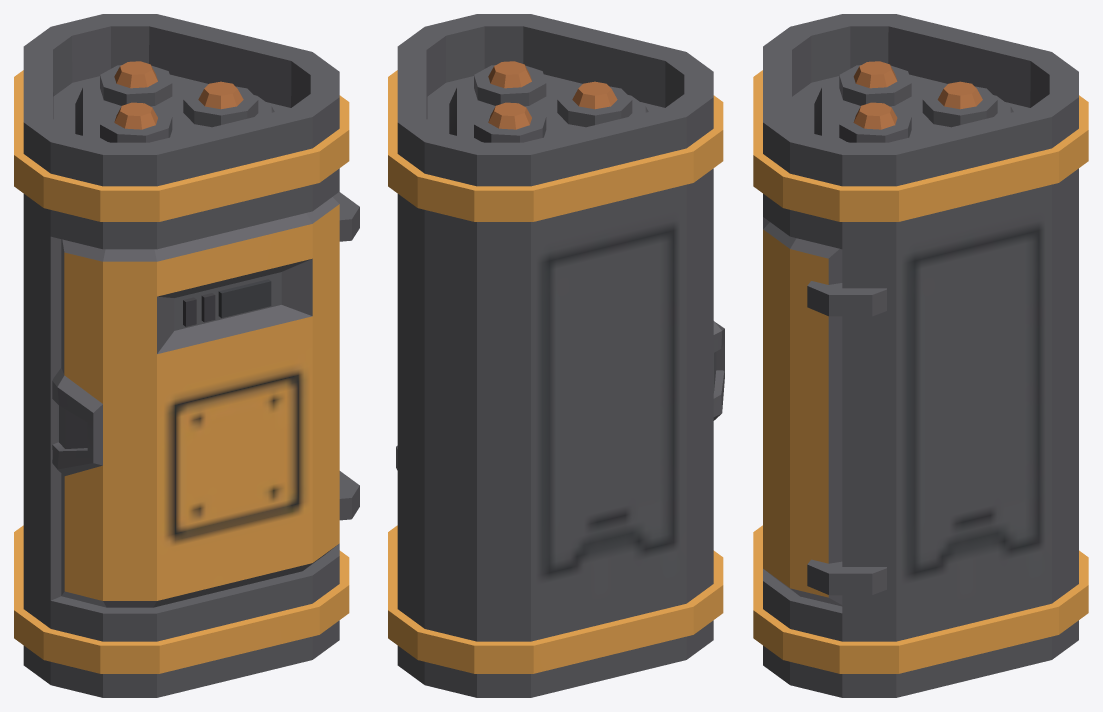
The model's file is worlds_SM_Prop_Crate_10.gltf.
3 views of the same model, side by side, from view 1: azimuth 30°, elevation 25°; view 2: azimuth 150°, elevation 25°; view 3: azimuth 270°, elevation 25° (orthographic).
Parts seen in each view (by area): view 1: SM_Prop_Crate_10; view 2: SM_Prop_Crate_10; view 3: SM_Prop_Crate_10.
Boxes of the visible parts, <box> form: SM_Prop_Crate_10: <box>14,14,359,697</box>; SM_Prop_Crate_10: <box>388,14,724,697</box>; SM_Prop_Crate_10: <box>753,14,1088,697</box>.
Size of the model in its own units: 1.14 by 1.9 by 1.06.
Materials: 1 (1 with a texture image).
